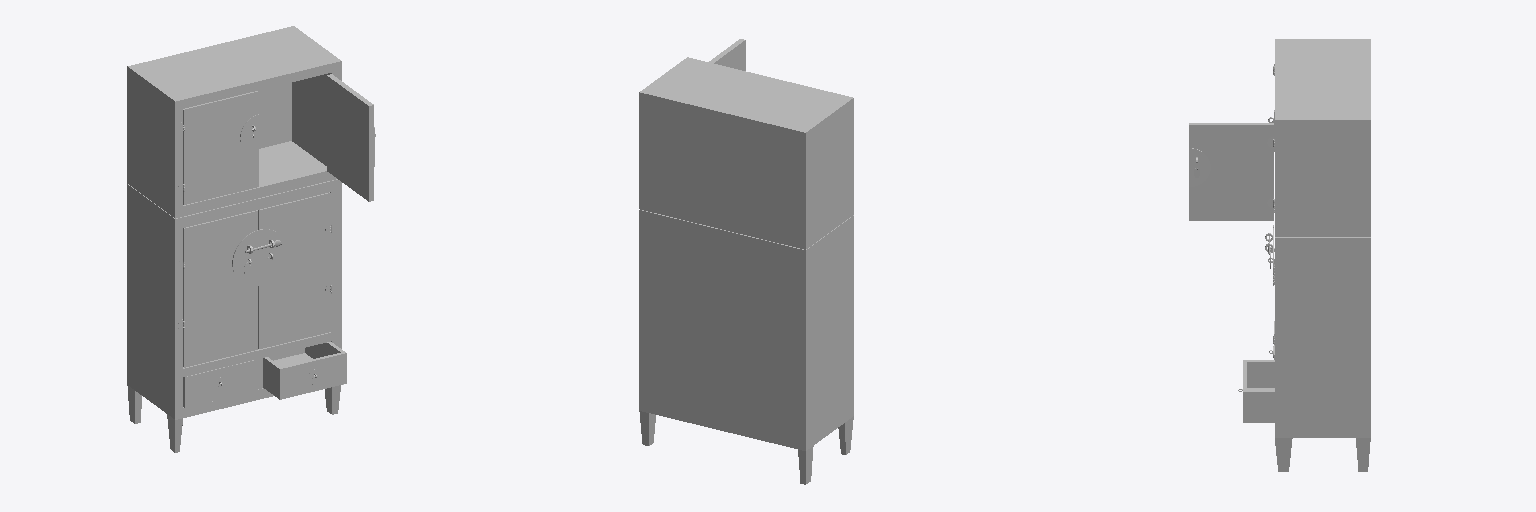
The model's file is cinese2obj.obj.
3 renders of one model, left to right at view 1: azimuth 30°, elevation 25°; view 2: azimuth 150°, elevation 25°; view 3: azimuth 270°, elevation 25°, orthographic.
Visible parts, largest first — view 1: mobile, cerchio_grande cerchio_grande1, cerchio_medio1 cerchio_medio; view 2: mobile; view 3: mobile, cerchio_medio1 cerchio_medio.
Boxes of the visible parts, x1,y1,x2,y2 form: mobile: [127, 26, 373, 452]; cerchio_grande cerchio_grande1: [232, 229, 286, 285]; cerchio_medio1 cerchio_medio: [240, 114, 374, 166]; mobile: [639, 39, 853, 484]; mobile: [1189, 39, 1370, 471]; cerchio_medio1 cerchio_medio: [1189, 110, 1274, 186].
Bounding box in the file's own units: 120 × 243 × 113.